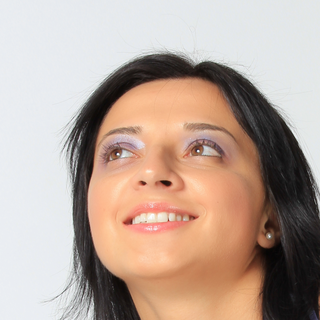eye: (183, 139, 229, 163), (99, 142, 142, 166)
